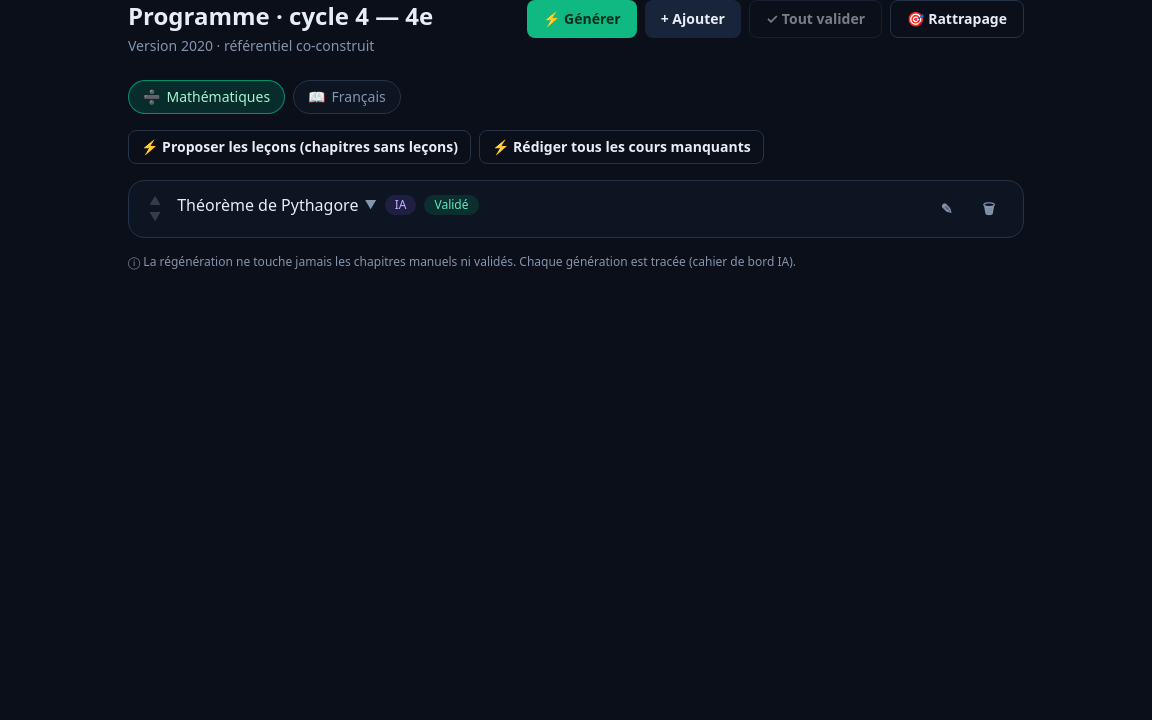
ProgrammePage › modale cours : Valider sur place — badge à jour, modale ouverte, sans repasser par la liste
Click the button "Théorème de Pythagore ▼" at (277, 205), box [177, 193, 377, 217]
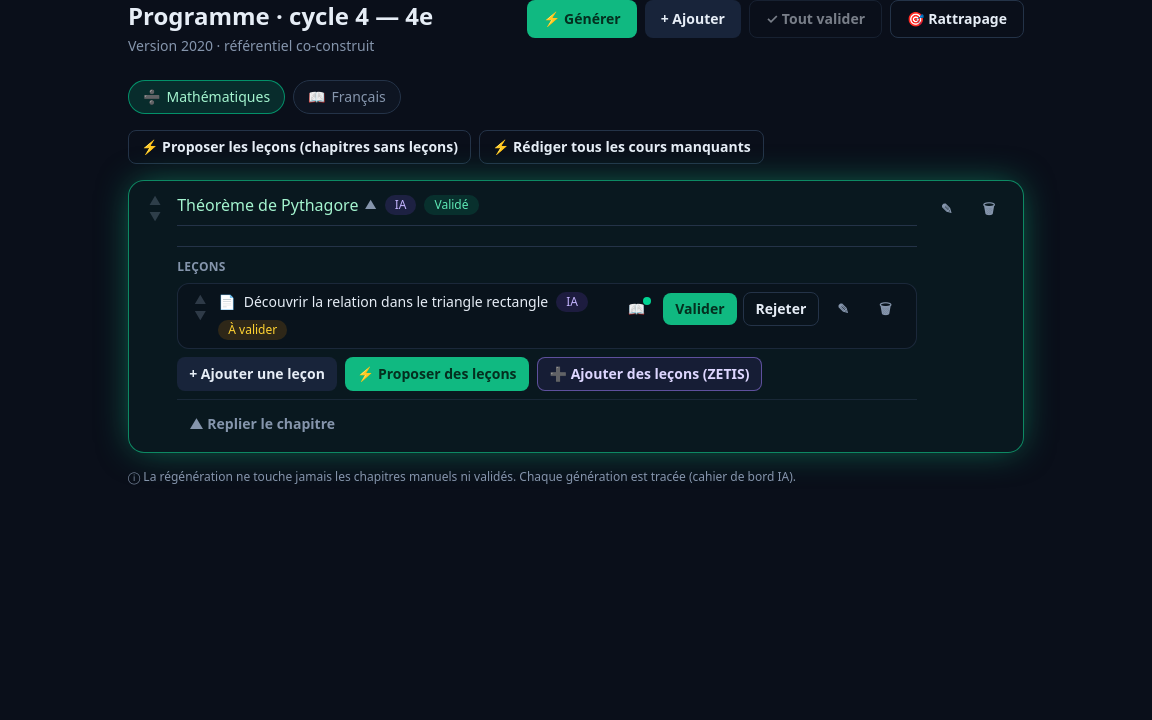
Click the button "📖" at (636, 309), box [616, 293, 657, 325]
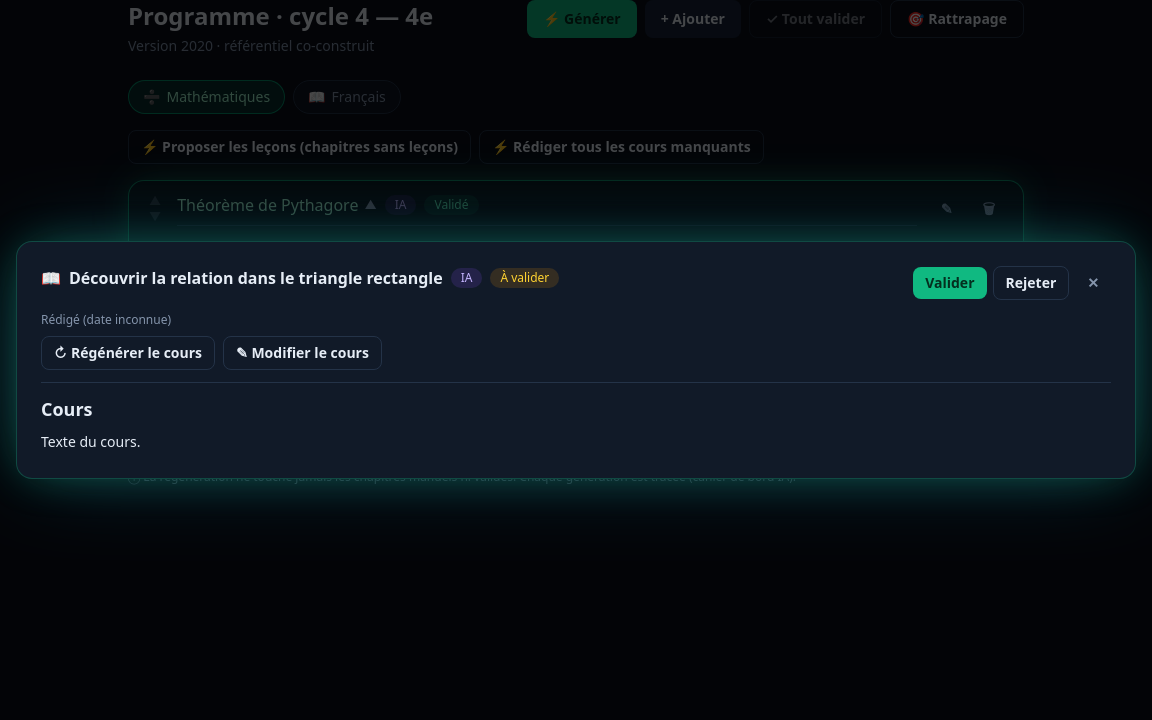
Click the button "Valider" at (950, 283), box [913, 267, 986, 299]
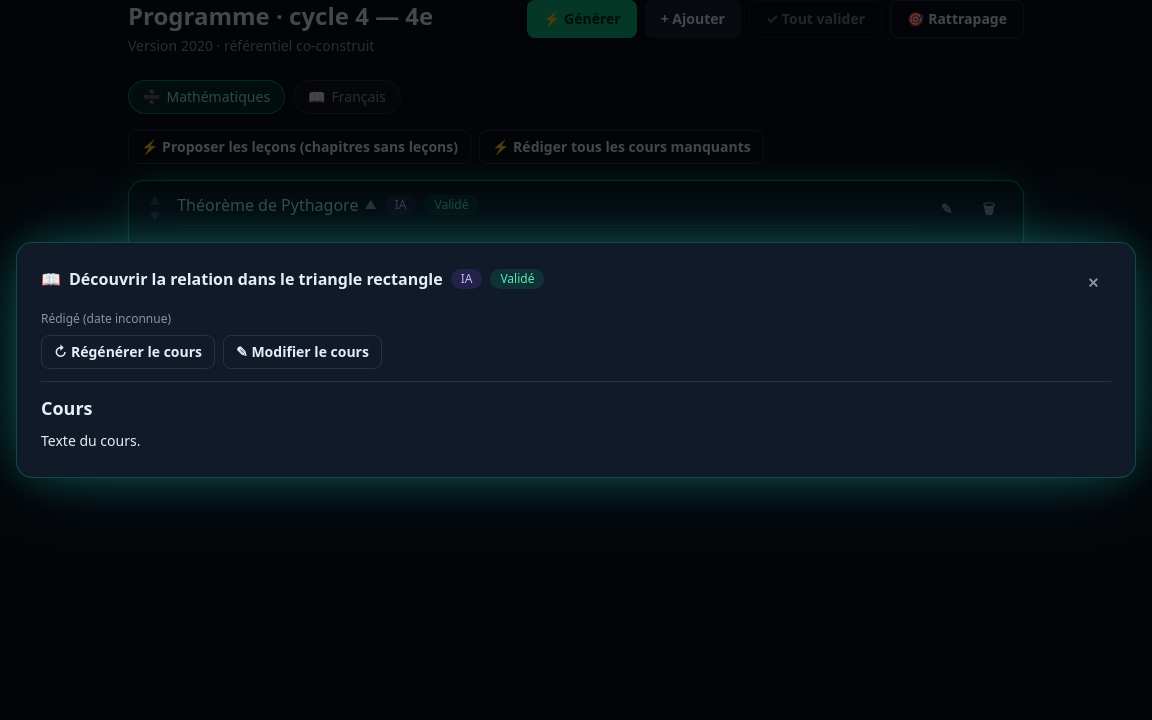
Expected: the text "Validé" is shown, [490, 269, 544, 289]
